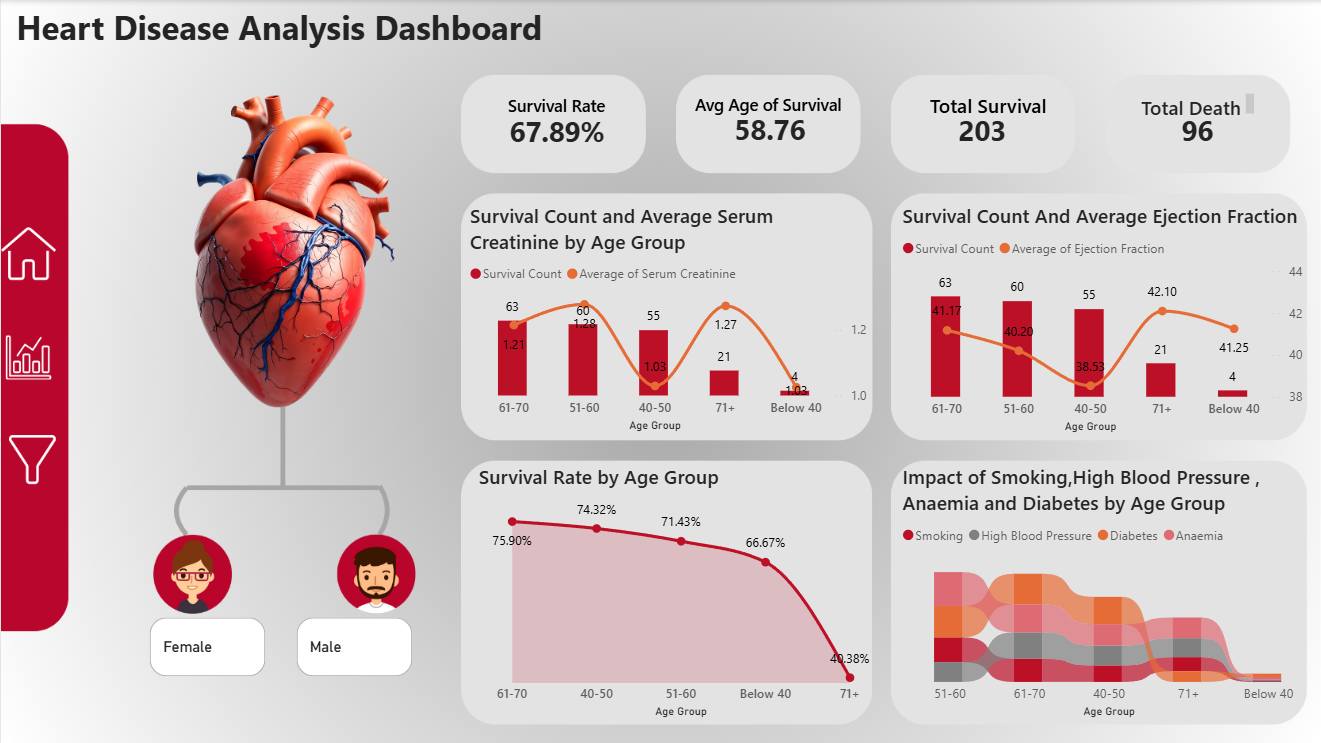

The dashboard page shown, as its layout file describes it:
{"tool":"powerbi","page":{"name":"Page 1","canvas":[1279,723],"ordinal":0},"visuals":[{"type":"textbox","box":[9.6,0,524.2,52.1],"z":0},{"type":"card","fields":{"Values":["heart_Disease_clinical_records_.Survival Rate"]},"box":[476.1,112.3,125.7,31.7],"z":1000},{"type":"card","fields":{"Values":["heart_Disease_clinical_records_.Average_age_Survival"]},"box":[704.3,108.6,83,35.4],"z":2000},{"type":"card","fields":{"Values":["heart_Disease_clinical_records_.Total_Surviour"]},"box":[917.9,108.6,65.9,36.6],"z":3000},{"type":"card","fields":{"Values":["heart_Disease_clinical_records_.Total_death"]},"box":[1130.3,101.3,58.6,51.3],"z":4000},{"type":"textbox","box":[479.7,85.4,117.2,34.2],"z":5000},{"type":"lineClusteredColumnComboChart","title":"Survival Count and Average Serum Creatinine by Age Group","fields":{"Category":["heart_Disease_clinical_records_.Age_Group"],"Y":["CountNonNull(heart_Disease_clinical_records_.DEATH_EVENT)"],"Y2":["Avg(heart_Disease_clinical_records_.serum_creatinine)"]},"box":[449.2,196.5,394.3,227],"z":6000},{"type":"lineClusteredColumnComboChart","title":"Survival Count And Average  Ejection Fraction","fields":{"Category":["heart_Disease_clinical_records_.Age_Group"],"Y":["CountNonNull(heart_Disease_clinical_records_.DEATH_EVENT)"],"Y2":["Avg(heart_Disease_clinical_records_.ejection_fraction)"]},"box":[869.1,196.5,399.2,228.3],"z":7000},{"type":"lineChart","fields":{"Category":["heart_Disease_clinical_records_.Age_Group"],"Y":["heart_Disease_clinical_records_.Survival Rate"]},"box":[457.7,449.2,402.8,251.5],"z":7001},{"type":"ribbonChart","title":"Impact of Smoking,High Blood Pressure , Anaemia and Diabetes by Age Group ","fields":{"Category":["heart_Disease_clinical_records_.Age_Group"],"Y":["Sum(heart_Disease_clinical_records_.smoking)","Sum(heart_Disease_clinical_records_.high_blood_pressure)","Sum(heart_Disease_clinical_records_.diabetes)","Sum(heart_Disease_clinical_records_.anaemia)"]},"box":[869.1,449.2,411.4,251.5],"z":7002},{"type":"advancedSlicerVisual","fields":{"Values":["heart_Disease_clinical_records_.Gender"]},"box":[139.2,593.2,264.9,67.1],"z":7003},{"type":"textbox","box":[667.7,84.2,155,36.6],"z":7004},{"type":"textbox","box":[894.7,84.2,133.1,35.4],"z":7005},{"type":"textbox","box":[1099.8,85.4,119.6,31.7],"z":7006}]}

Visuals, with their boxes in screenshot pixels (x1, y1, x2, y2), scaled from the page's 1279x723 canvas onto the 1321x743 screenshot:
textbox: [x1=10, y1=0, x2=551, y2=54]
card - heart_Disease_clinical_records_.Survival Rate: [x1=492, y1=115, x2=622, y2=148]
card - heart_Disease_clinical_records_.Average_age_Survival: [x1=727, y1=112, x2=813, y2=148]
card - heart_Disease_clinical_records_.Total_Surviour: [x1=948, y1=112, x2=1016, y2=149]
card - heart_Disease_clinical_records_.Total_death: [x1=1167, y1=104, x2=1228, y2=157]
textbox: [x1=495, y1=88, x2=617, y2=123]
"Survival Count and Average Serum Creatinine by Age Group" lineClusteredColumnComboChart: [x1=464, y1=202, x2=871, y2=435]
"Survival Count And Average  Ejection Fraction" lineClusteredColumnComboChart: [x1=898, y1=202, x2=1310, y2=437]
lineChart - heart_Disease_clinical_records_.Age_Group x heart_Disease_clinical_records_.Survival Rate: [x1=473, y1=462, x2=889, y2=720]
"Impact of Smoking,High Blood Pressure , Anaemia and Diabetes by Age Group " ribbonChart: [x1=898, y1=462, x2=1320, y2=720]
advancedSlicerVisual - heart_Disease_clinical_records_.Gender: [x1=144, y1=610, x2=417, y2=679]
textbox: [x1=690, y1=87, x2=850, y2=124]
textbox: [x1=924, y1=87, x2=1062, y2=123]
textbox: [x1=1136, y1=88, x2=1259, y2=120]
